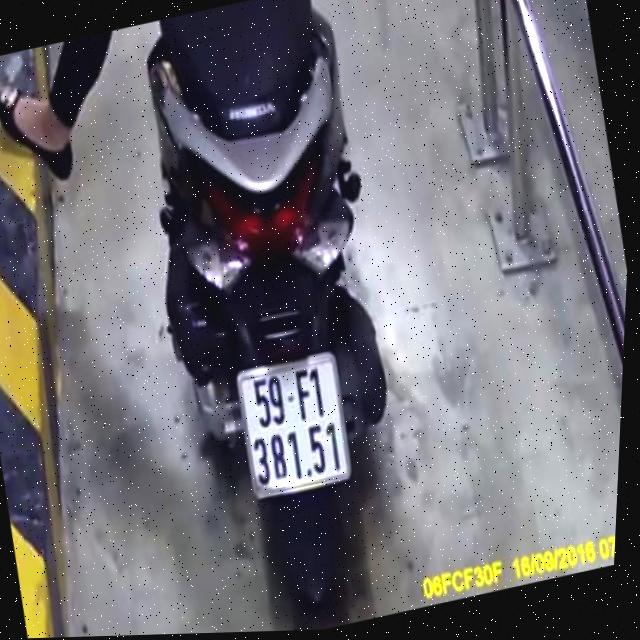motorcycle: (90, 0, 459, 637)
plate: (224, 345, 368, 509)
